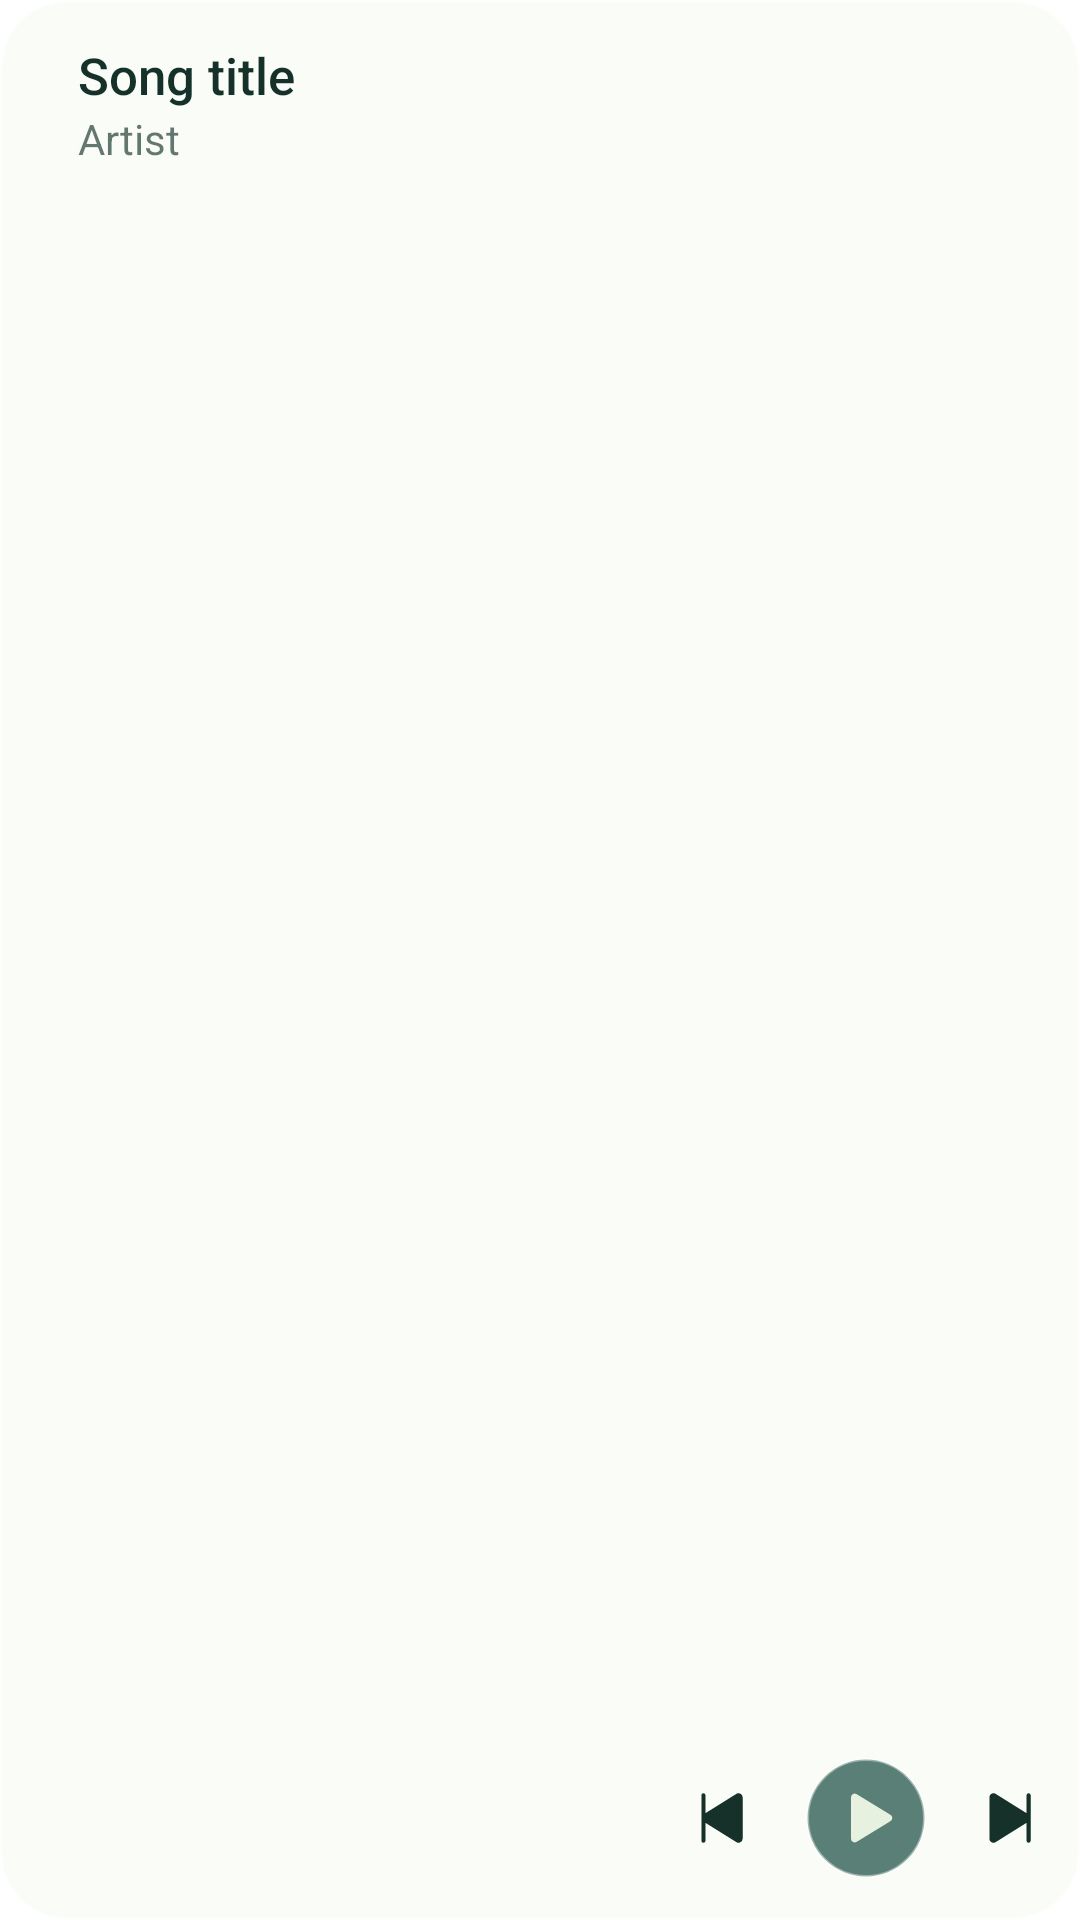

Screen size 1080w x 1920h. Icon name, then its box in pixels as (x1, y1, x2, y2):
Previous song: (701, 1793, 743, 1843)
widget play: (807, 1759, 925, 1877)
